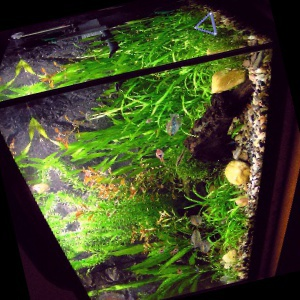triangle: (192, 8, 219, 36)
